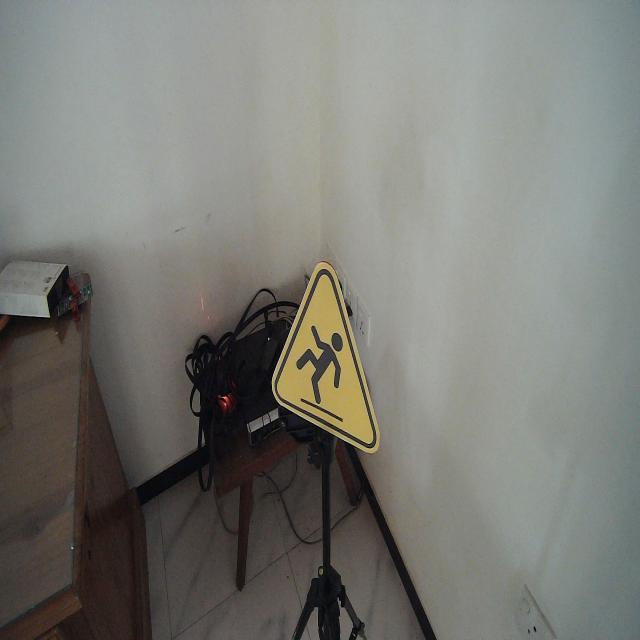slippery_sign: (270, 260, 382, 456)
